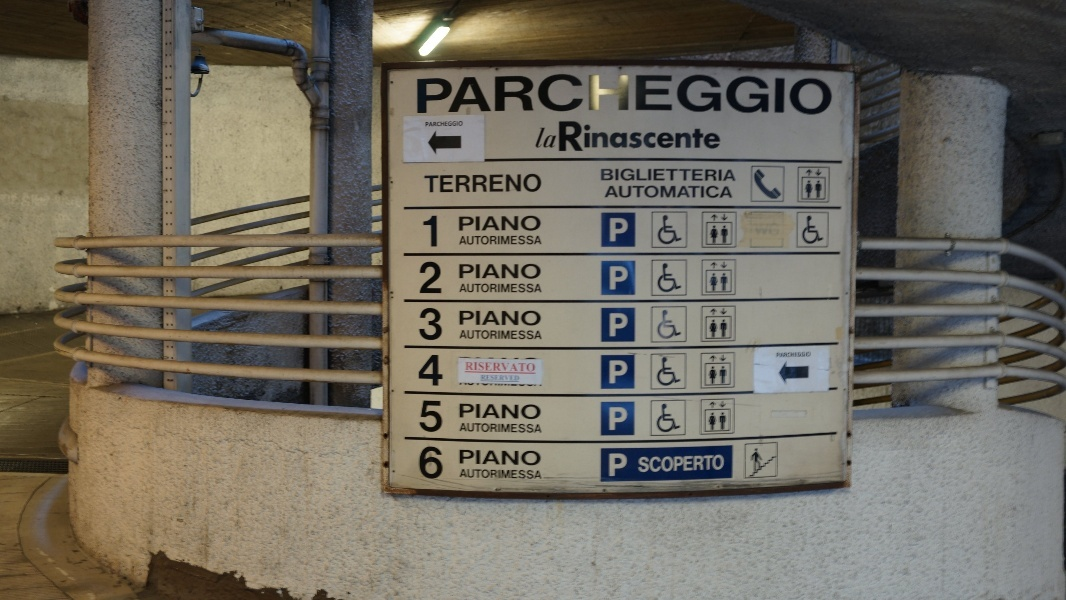text: (417, 71, 432, 116), (433, 71, 448, 116), (449, 71, 464, 116), (465, 71, 480, 116), (481, 71, 496, 116), (497, 71, 512, 116), (513, 71, 528, 116), (529, 71, 544, 116), (545, 71, 560, 116), (561, 71, 576, 116), (577, 71, 592, 116), (593, 71, 608, 116), (609, 71, 624, 116), (625, 71, 640, 116), (641, 71, 656, 116), (657, 71, 672, 116), (673, 71, 688, 116), (689, 71, 704, 116), (705, 71, 720, 116), (721, 71, 736, 116), (737, 71, 752, 116), (753, 71, 768, 116), (769, 71, 784, 116), (785, 71, 800, 116), (801, 71, 816, 116), (817, 71, 832, 116), (418, 214, 432, 249), (545, 120, 560, 152), (561, 120, 576, 152), (577, 120, 592, 152), (593, 120, 608, 152), (609, 120, 624, 152), (625, 120, 640, 152), (641, 120, 656, 152), (657, 120, 672, 152), (673, 120, 688, 152), (689, 120, 704, 152), (705, 120, 720, 152), (433, 262, 445, 295), (609, 217, 624, 243), (609, 312, 624, 338), (609, 266, 624, 291), (609, 360, 624, 385), (421, 262, 432, 295), (421, 447, 432, 480), (422, 308, 432, 344), (433, 308, 443, 344), (609, 407, 624, 431), (609, 453, 624, 477), (433, 355, 444, 387), (422, 400, 432, 433), (433, 400, 443, 433), (433, 447, 443, 480), (433, 173, 448, 194), (449, 173, 464, 194), (465, 173, 480, 194), (481, 173, 496, 194), (497, 173, 512, 194), (513, 173, 528, 194), (529, 173, 543, 194), (465, 214, 480, 233), (481, 214, 496, 233), (497, 214, 512, 233), (513, 214, 528, 233), (529, 214, 544, 233), (641, 455, 656, 473), (657, 455, 672, 473), (673, 455, 688, 473), (689, 455, 704, 473), (705, 455, 720, 473), (465, 263, 480, 280), (481, 263, 496, 280), (497, 263, 512, 280), (513, 263, 528, 280), (465, 310, 480, 327), (481, 310, 496, 327), (497, 310, 512, 327), (513, 310, 528, 327), (465, 403, 480, 420), (481, 403, 496, 420), (497, 403, 512, 420), (513, 403, 528, 420), (433, 214, 440, 249), (465, 450, 480, 466), (481, 450, 496, 466), (497, 450, 512, 466), (513, 450, 528, 466), (529, 263, 543, 280), (529, 310, 543, 327), (833, 71, 838, 116), (609, 185, 624, 200), (625, 185, 640, 200), (641, 185, 656, 200), (657, 185, 672, 200), (673, 185, 688, 200), (689, 185, 704, 200), (705, 185, 720, 200), (529, 403, 542, 420), (422, 173, 432, 194), (609, 168, 624, 182), (625, 168, 640, 182), (641, 168, 656, 182), (657, 168, 672, 182), (673, 168, 688, 182), (689, 168, 704, 182), (705, 168, 720, 182), (721, 168, 736, 182), (721, 185, 735, 200), (529, 450, 542, 466), (529, 235, 545, 246), (465, 235, 480, 246), (481, 235, 496, 246), (497, 235, 512, 246), (513, 235, 528, 246), (465, 283, 480, 294), (481, 283, 496, 294), (497, 283, 512, 294), (513, 283, 528, 294), (529, 283, 544, 294), (465, 329, 480, 340), (481, 329, 496, 340), (497, 329, 512, 340), (513, 329, 528, 340), (529, 329, 544, 340), (481, 362, 496, 373), (497, 362, 512, 373), (513, 362, 528, 373), (465, 423, 480, 434), (481, 423, 496, 434), (497, 423, 512, 434), (513, 423, 528, 434), (529, 423, 544, 434), (465, 469, 480, 480), (481, 469, 496, 480), (497, 469, 512, 480), (513, 469, 528, 480), (466, 362, 480, 373), (529, 469, 543, 480), (413, 71, 416, 116), (481, 374, 496, 383), (497, 374, 512, 383), (625, 217, 630, 243), (458, 214, 464, 233), (600, 168, 608, 182), (433, 121, 448, 128), (449, 121, 464, 128), (785, 351, 800, 358), (625, 312, 629, 338), (458, 310, 464, 327), (625, 266, 629, 291), (625, 360, 629, 385), (721, 120, 724, 152), (721, 455, 726, 473), (459, 263, 464, 280), (459, 403, 464, 420), (459, 450, 464, 466), (529, 362, 536, 373), (801, 351, 812, 358), (625, 407, 628, 431), (625, 453, 628, 477), (542, 120, 544, 152), (513, 374, 520, 383), (424, 121, 432, 128), (776, 351, 784, 358), (431, 355, 432, 387), (462, 235, 464, 246), (462, 283, 464, 294), (462, 329, 464, 340), (462, 423, 464, 434), (639, 455, 640, 473), (737, 168, 738, 182), (463, 469, 464, 480)
